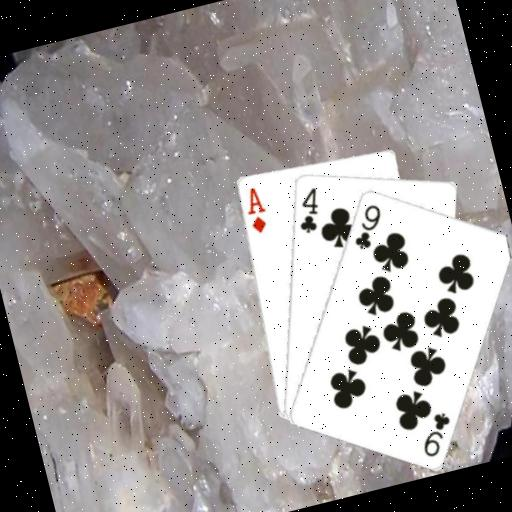4C: (288, 183, 328, 236)
9C: (412, 407, 460, 461), (343, 199, 390, 253)
AD: (239, 183, 272, 237)
